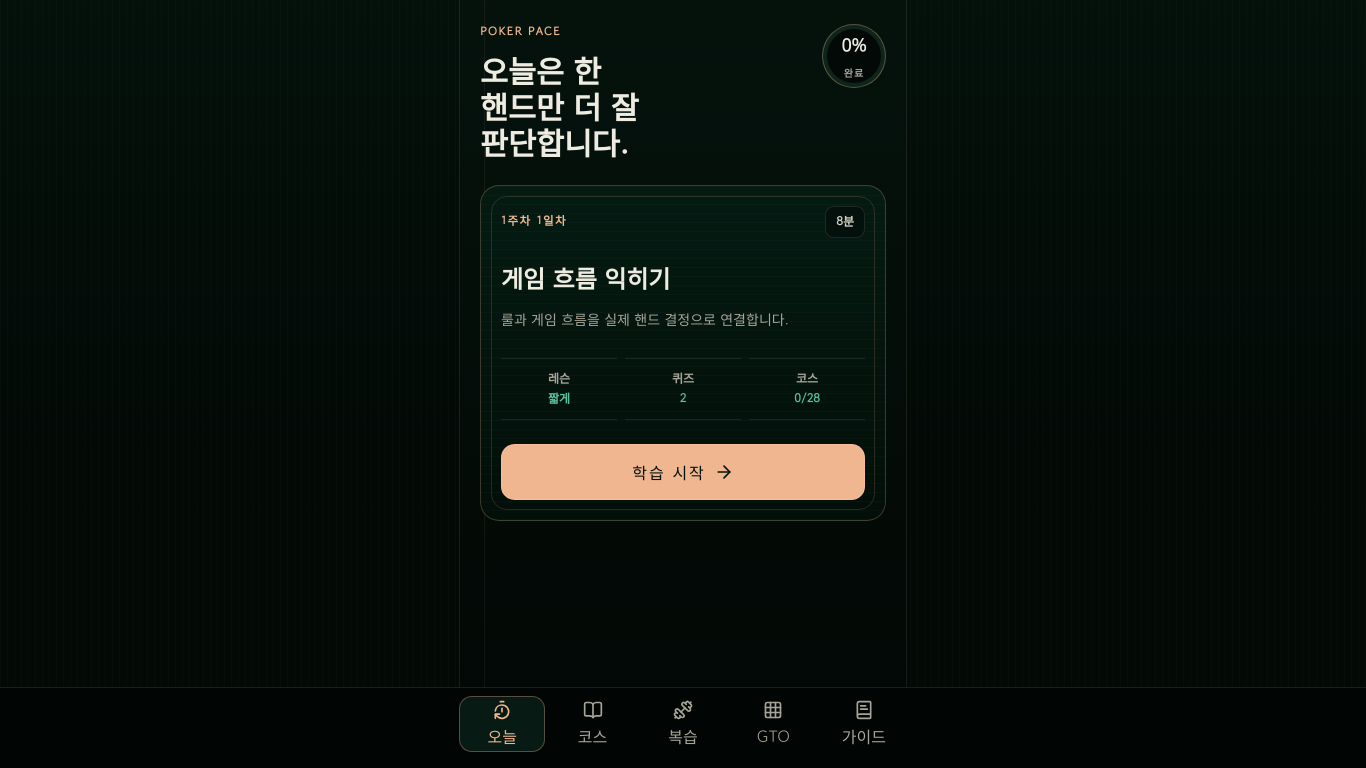
Test: Poker Pace app › updates selected hand details when the GTO situation changes
Click the button "GTO": (773, 724) [730,696,817,752]
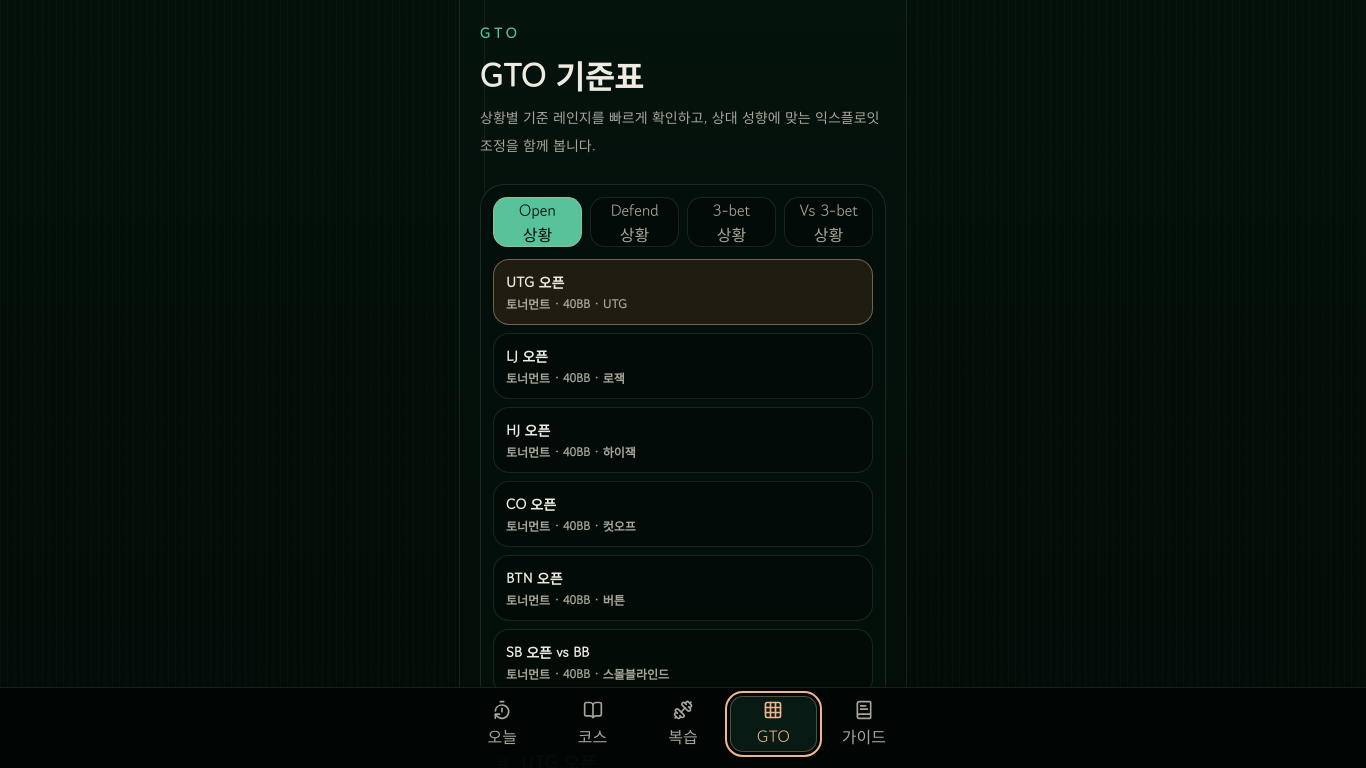
Click the button "BTN 오픈 토너먼트 · 40BB · 버튼": (534, 578) [493,555,873,621]
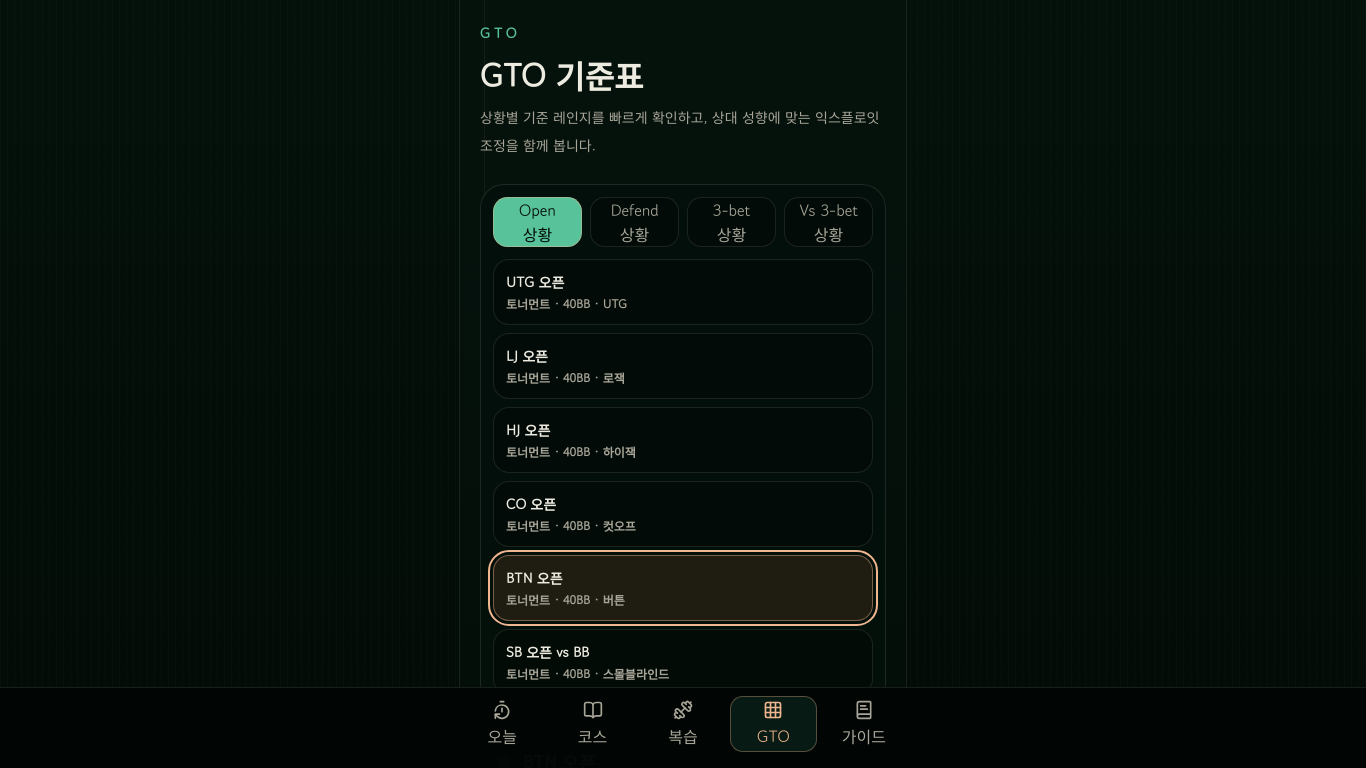
Click the button "UTG 오픈 토너먼트 · 40BB · UTG": (535, 282) [493,259,873,325]
(page scrolled)
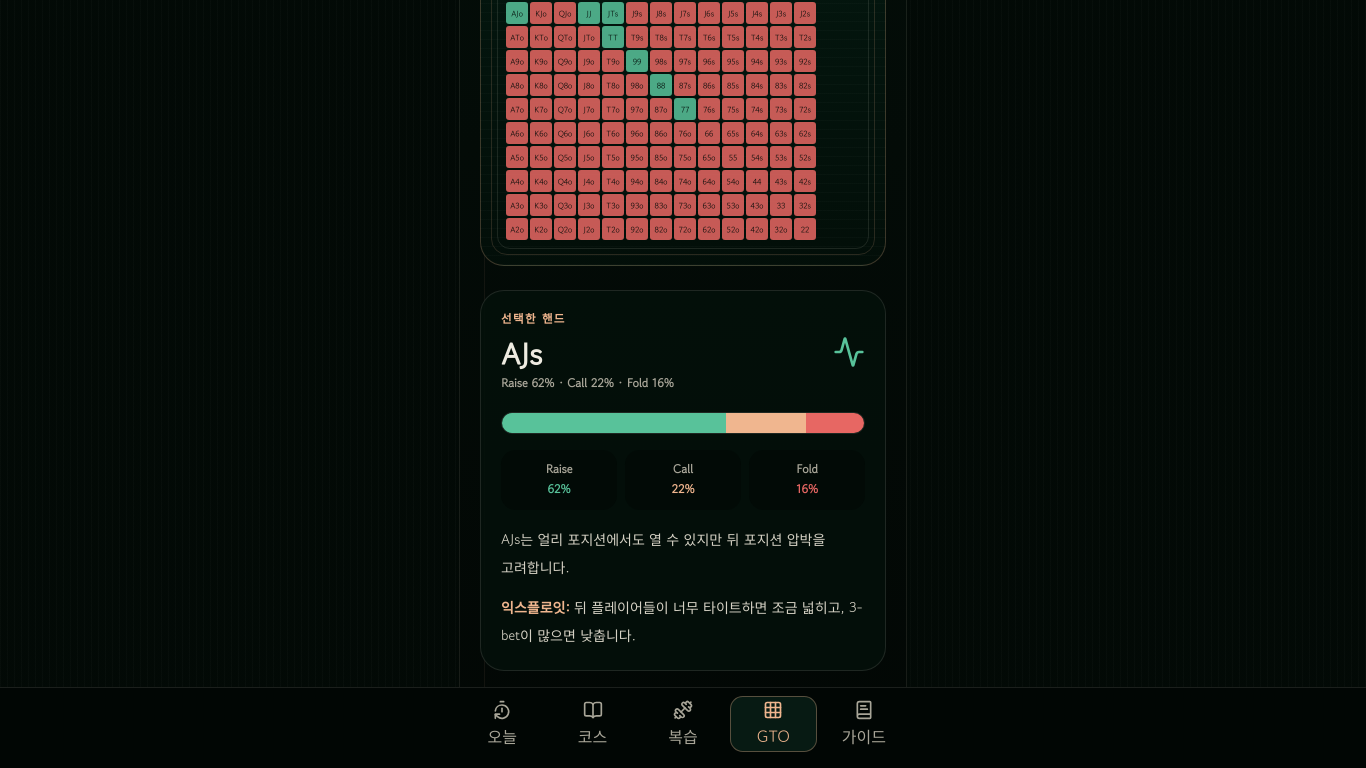
Expected: the text "Raise 62% · Call 22% · Fold 16%" is shown, [501,376,674,392]
